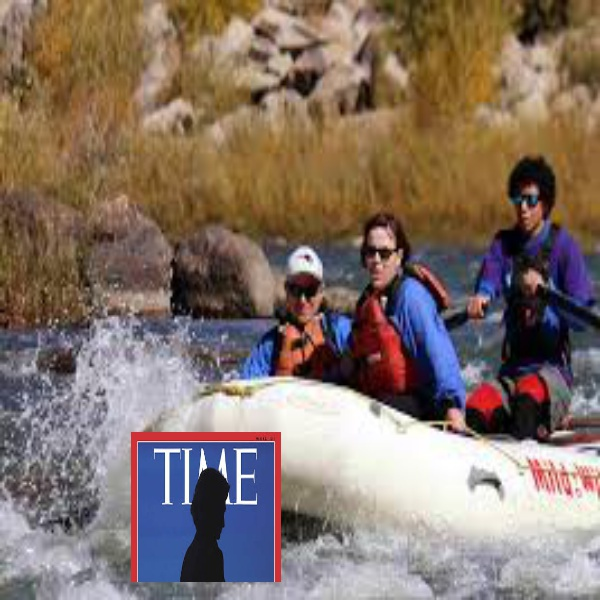time_cover: (127, 425, 283, 582)
